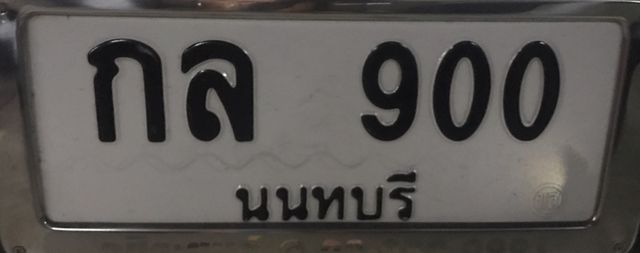txt01: (85, 36, 170, 145)
txt31: (176, 36, 258, 145)
